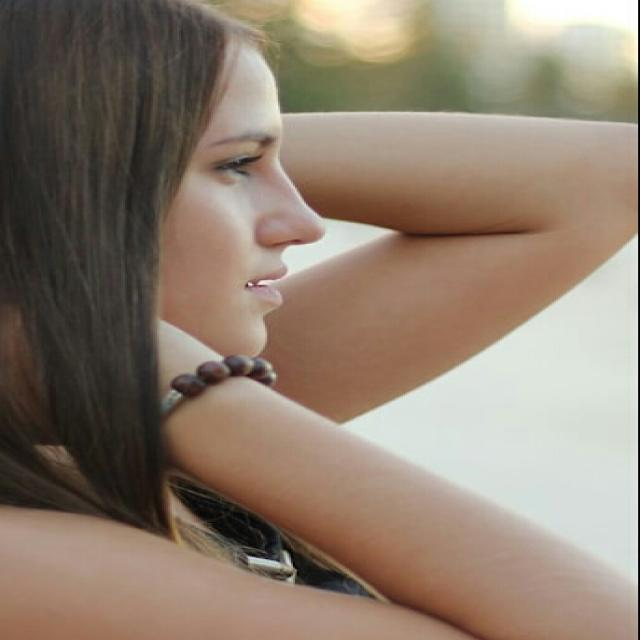front: (117, 119, 331, 370)
